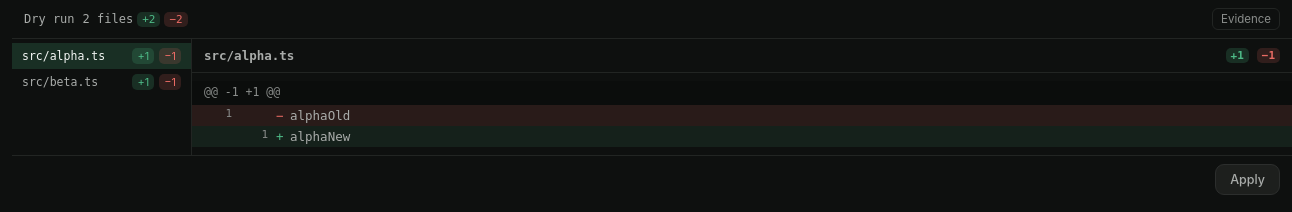
Test: ReviewWidget › renders only the selected file body and switches files from the file list
The image size is (1292, 212).
Expected: the text "alphaNew" is shown, x1=290 y1=129 x2=350 y2=144
Expected: the text "betaNew" is not shown
Click the button "src/beta.ts +1 −1".
click(102, 82)  # box x1=12 y1=69 x2=191 y2=95
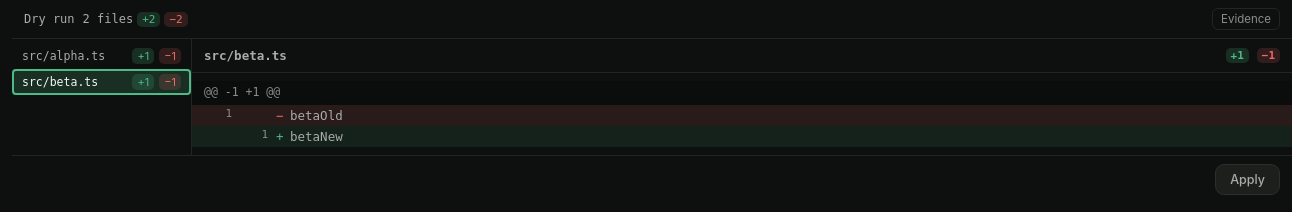
Expected: the text "betaNew" is shown, x1=290 y1=129 x2=343 y2=144
Expected: the text "alphaNew" is gone
